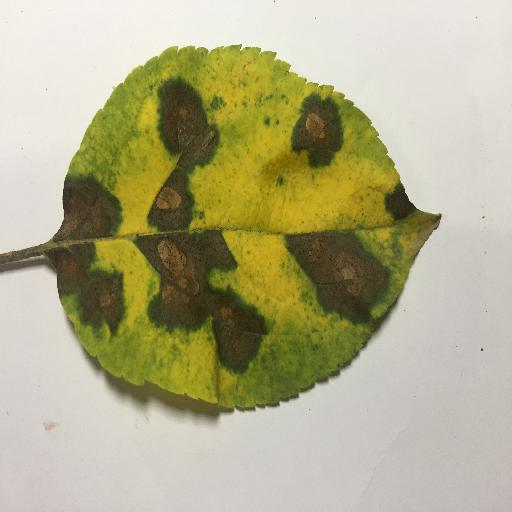Brown_Spot: (150, 226, 267, 374), (120, 84, 211, 225), (288, 237, 380, 322), (56, 247, 139, 329), (38, 175, 134, 240), (268, 91, 348, 162), (377, 175, 417, 227)
